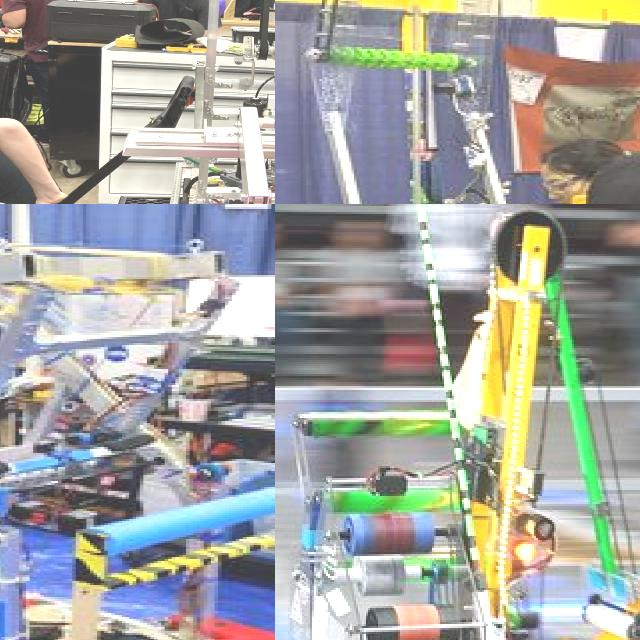FRC-Robots: (275, 205, 640, 640), (0, 204, 275, 640), (275, 0, 575, 204)
